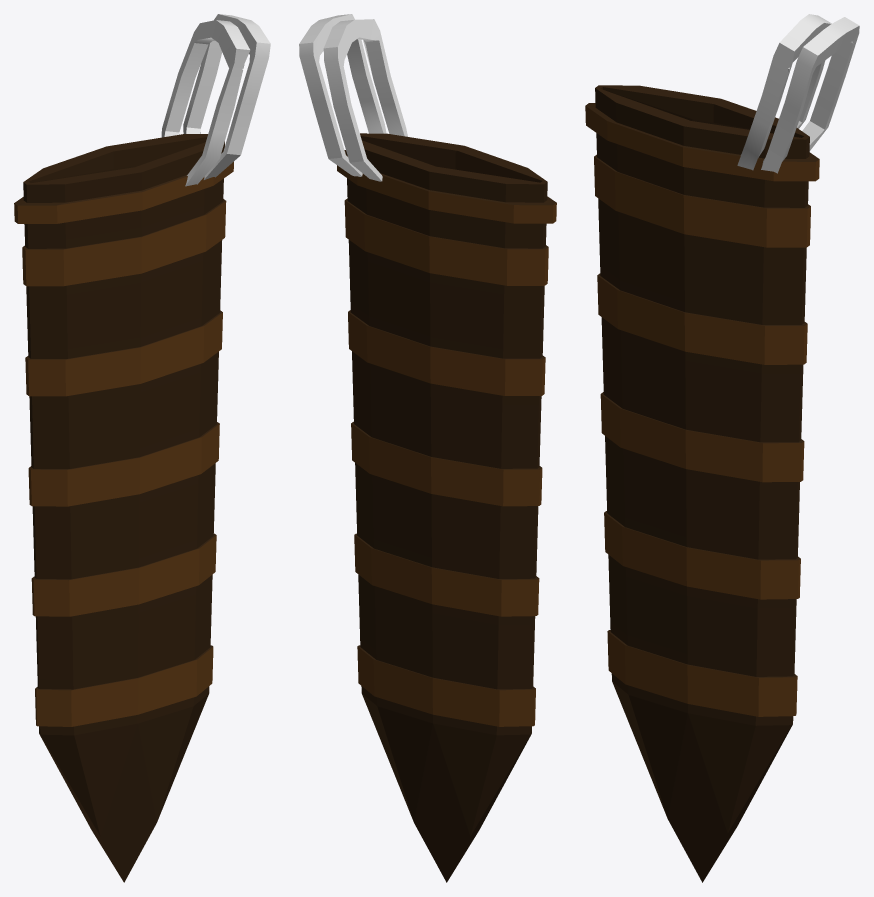
The model's file is Scabbard.fbx.
3 renders of one model, left to right at view 1: azimuth 30°, elevation 25°; view 2: azimuth 150°, elevation 25°; view 3: azimuth 330°, elevation 25°, orthographic. The views are drawn at different scales.
Visible parts, largest first — view 1: Scabbard, scabbard_2, scabbard_1; view 2: Scabbard, scabbard_2, scabbard_1; view 3: Scabbard, scabbard_1, scabbard_2.
Boxes of the visible parts, left/top/right/bottom form: Scabbard: left=14, top=134, right=233, bottom=882; scabbard_2: left=161, top=20, right=250, bottom=186; scabbard_1: left=183, top=14, right=270, bottom=179; Scabbard: left=337, top=133, right=556, bottom=882; scabbard_2: left=323, top=19, right=407, bottom=181; scabbard_1: left=299, top=14, right=386, bottom=176; Scabbard: left=585, top=85, right=819, bottom=882; scabbard_1: left=761, top=17, right=859, bottom=173; scabbard_2: left=737, top=14, right=831, bottom=170.
Bounding box in the file's own units: 0.0872 × 0.028 × 0.2908.
